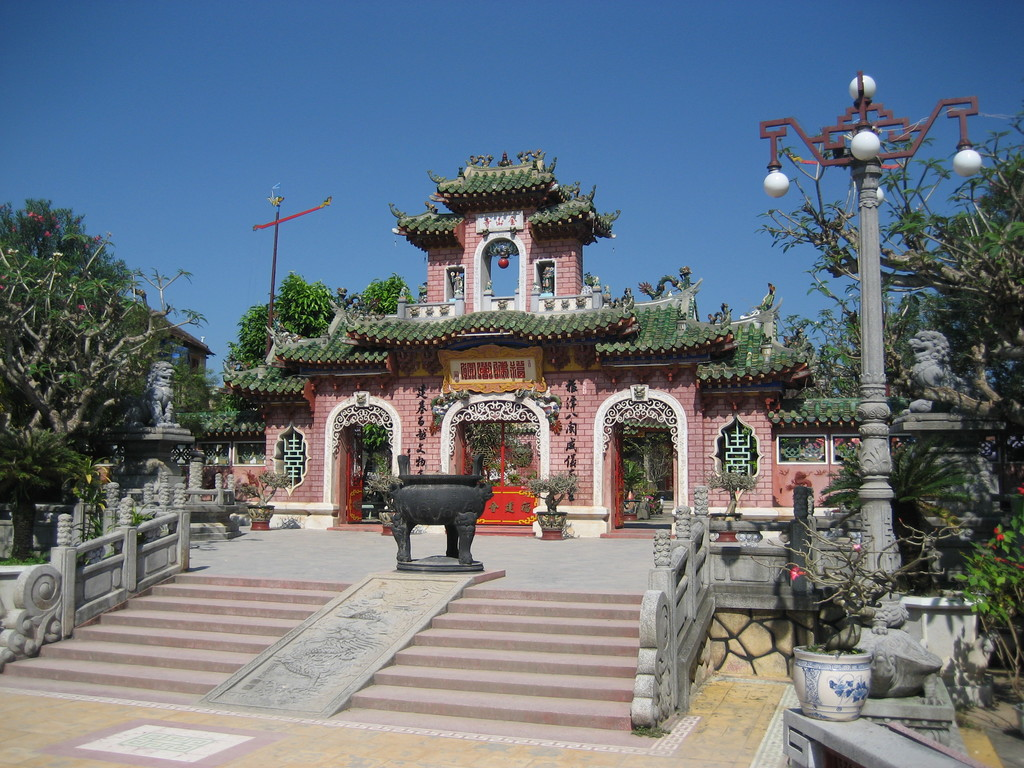Animal: (122, 360, 171, 424)
